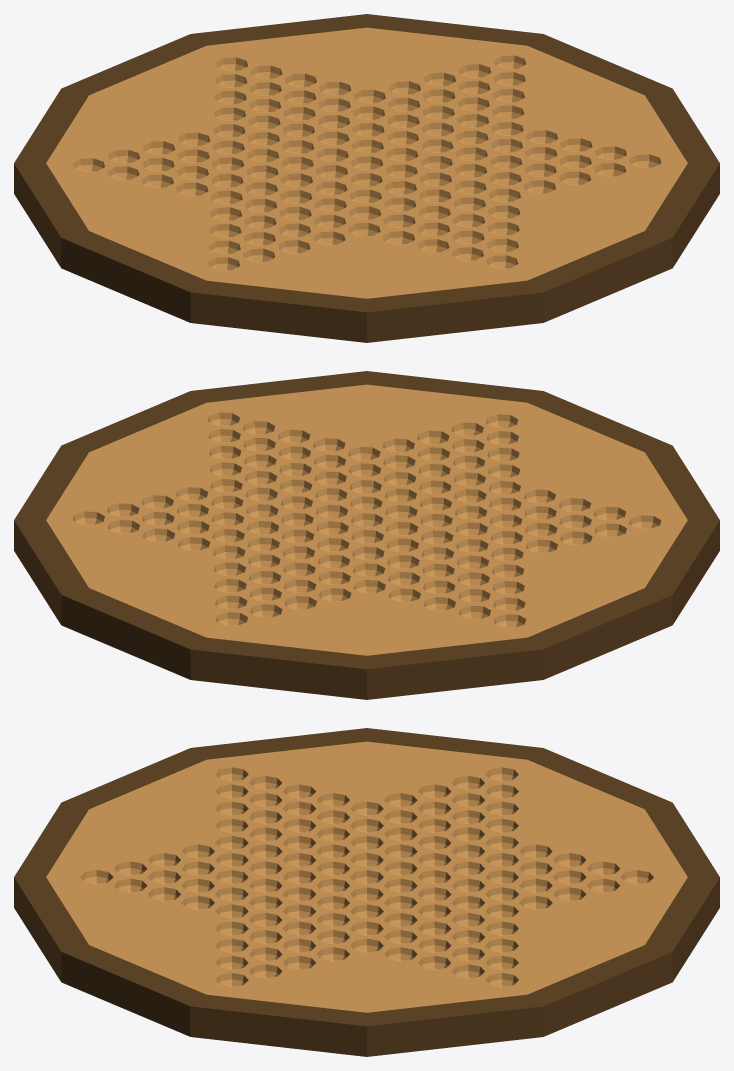
File: Chinese Checkers Board.fbx
3 views of the same model, one above another, from view 1: azimuth 30°, elevation 25°; view 2: azimuth 150°, elevation 25°; view 3: azimuth 270°, elevation 25° (orthographic).
Parts seen in each view (by area): view 1: Chinese Checkers Board; view 2: Chinese Checkers Board; view 3: Chinese Checkers Board.
Part boxes in pixels (box(x1,y1,x2,y2)): Chinese Checkers Board: box(14, 14, 719, 342); Chinese Checkers Board: box(14, 371, 719, 699); Chinese Checkers Board: box(14, 728, 719, 1056).
Bounding box in the file's own units: 418 × 20 × 418.
